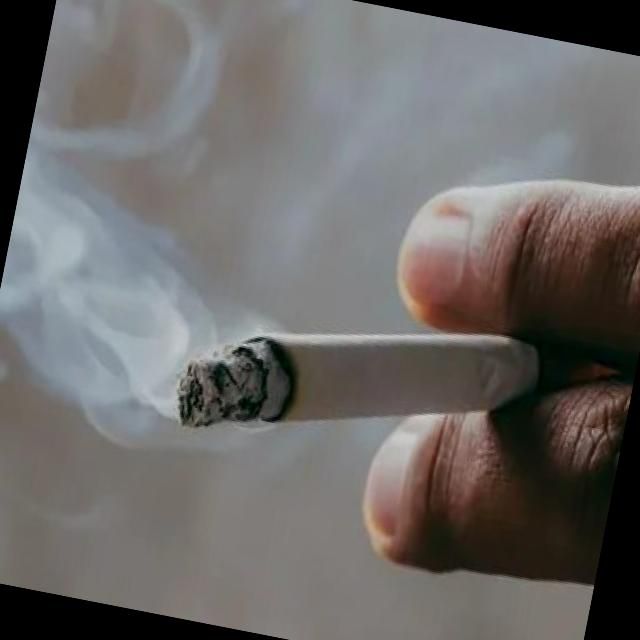cigarette: (161, 268, 625, 510)
